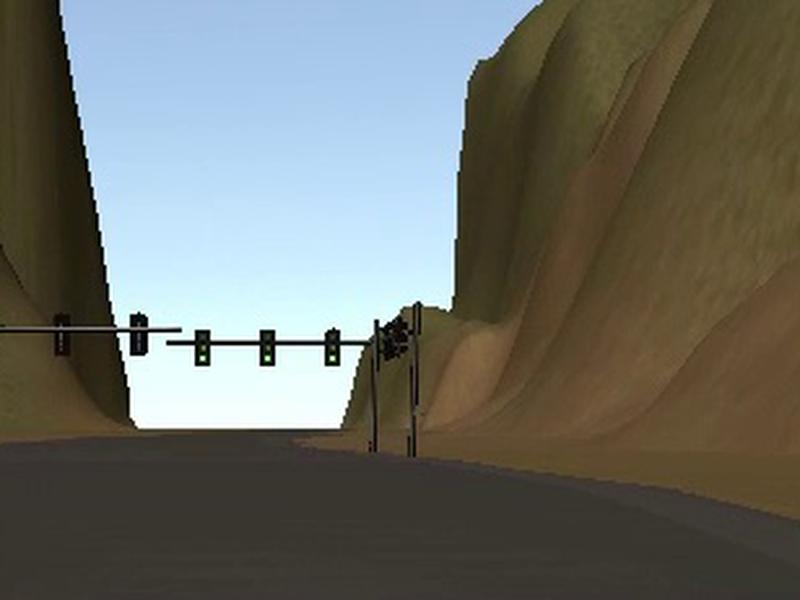Green: (192, 328, 212, 367), (258, 330, 275, 366), (324, 329, 340, 366)
